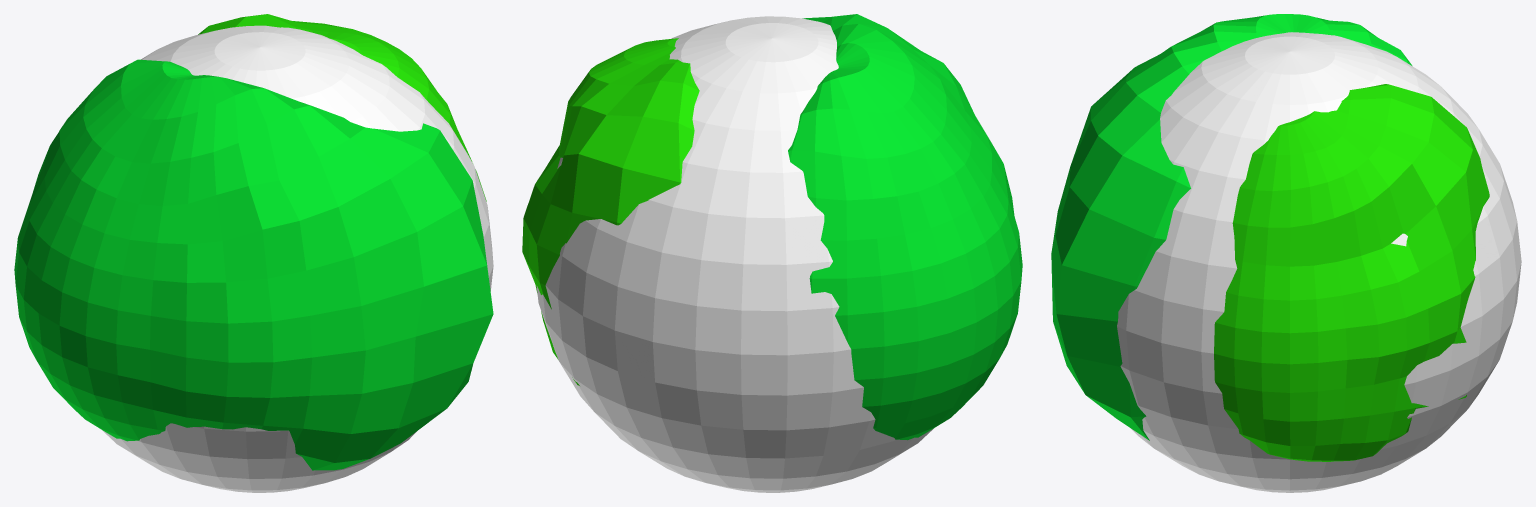
Rendered from Tierra wtf.glb.
The picture shows the model from 3 angles, left to right: view 1: azimuth 30°, elevation 25°; view 2: azimuth 150°, elevation 25°; view 3: azimuth 270°, elevation 25°; orthographic projection. The views are drawn at different scales.
Parts seen in each view (by area): view 1: Sphere.001, Sphere, Sphere.002; view 2: Sphere, Sphere.001, Sphere.002; view 3: Sphere.002, Sphere, Sphere.001.
Part boxes in pixels (<box>): Sphere.001: <box>14,59,493,470</box>; Sphere: <box>102,25,493,492</box>; Sphere.002: <box>198,14,486,201</box>; Sphere: <box>536,16,933,492</box>; Sphere.001: <box>788,14,1022,440</box>; Sphere.002: <box>522,38,699,385</box>; Sphere.002: <box>1214,84,1489,461</box>; Sphere: <box>1117,32,1521,492</box>; Sphere.001: <box>1051,14,1412,440</box>.
Bounding box in the file's own units: 2.14 × 2 × 2.03.
